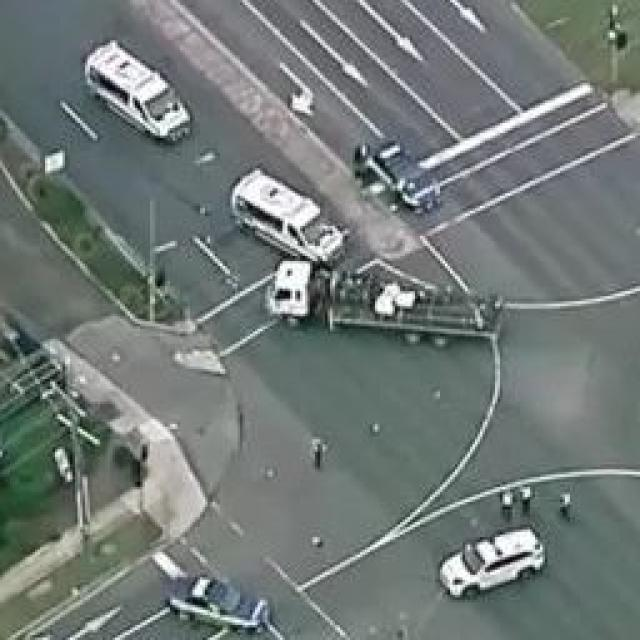traffic_incident: (228, 168, 512, 344)
